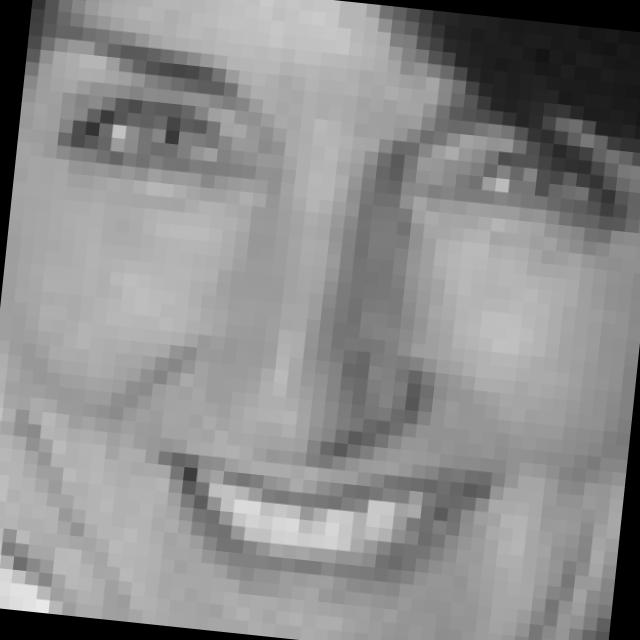happy: (1, 12, 638, 624)
